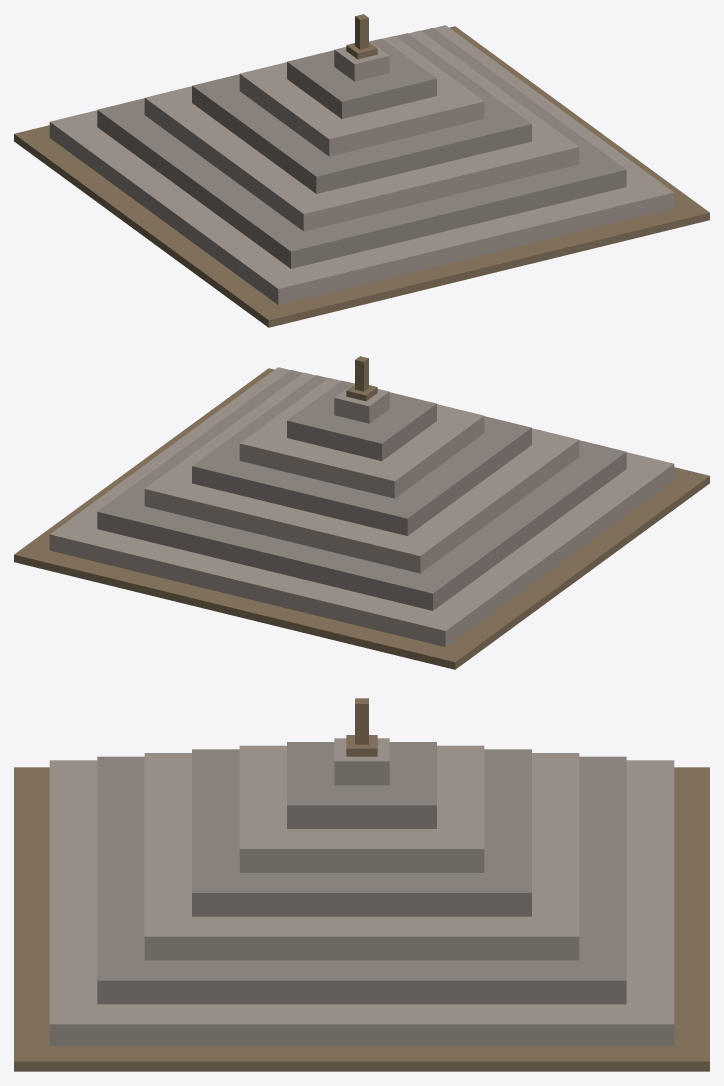
File: Tower_Roof.glb
The picture shows the model from 3 angles, top to bottom: view 1: azimuth 30°, elevation 25°; view 2: azimuth 150°, elevation 25°; view 3: azimuth 270°, elevation 25°; orthographic projection. The views are drawn at different scales.
Parts seen in each view (by area): view 1: Tower_Roof_0, Tower_Roof_1, Tower_Roof_2; view 2: Tower_Roof_0, Tower_Roof_1, Tower_Roof_2; view 3: Tower_Roof_0, Tower_Roof_1, Tower_Roof_2.
Part boxes in pixels (x1,y1,x2,y2): Tower_Roof_0: (49,25,674,304); Tower_Roof_1: (97,28,626,268); Tower_Roof_2: (14,14,709,327); Tower_Roof_0: (49,367,674,646); Tower_Roof_1: (97,370,626,610); Tower_Roof_2: (14,356,709,669); Tower_Roof_0: (49,738,674,1046); Tower_Roof_1: (97,742,626,1004); Tower_Roof_2: (14,698,709,1071).
Bounding box in the file's own units: 11 × 3.9 × 11.
